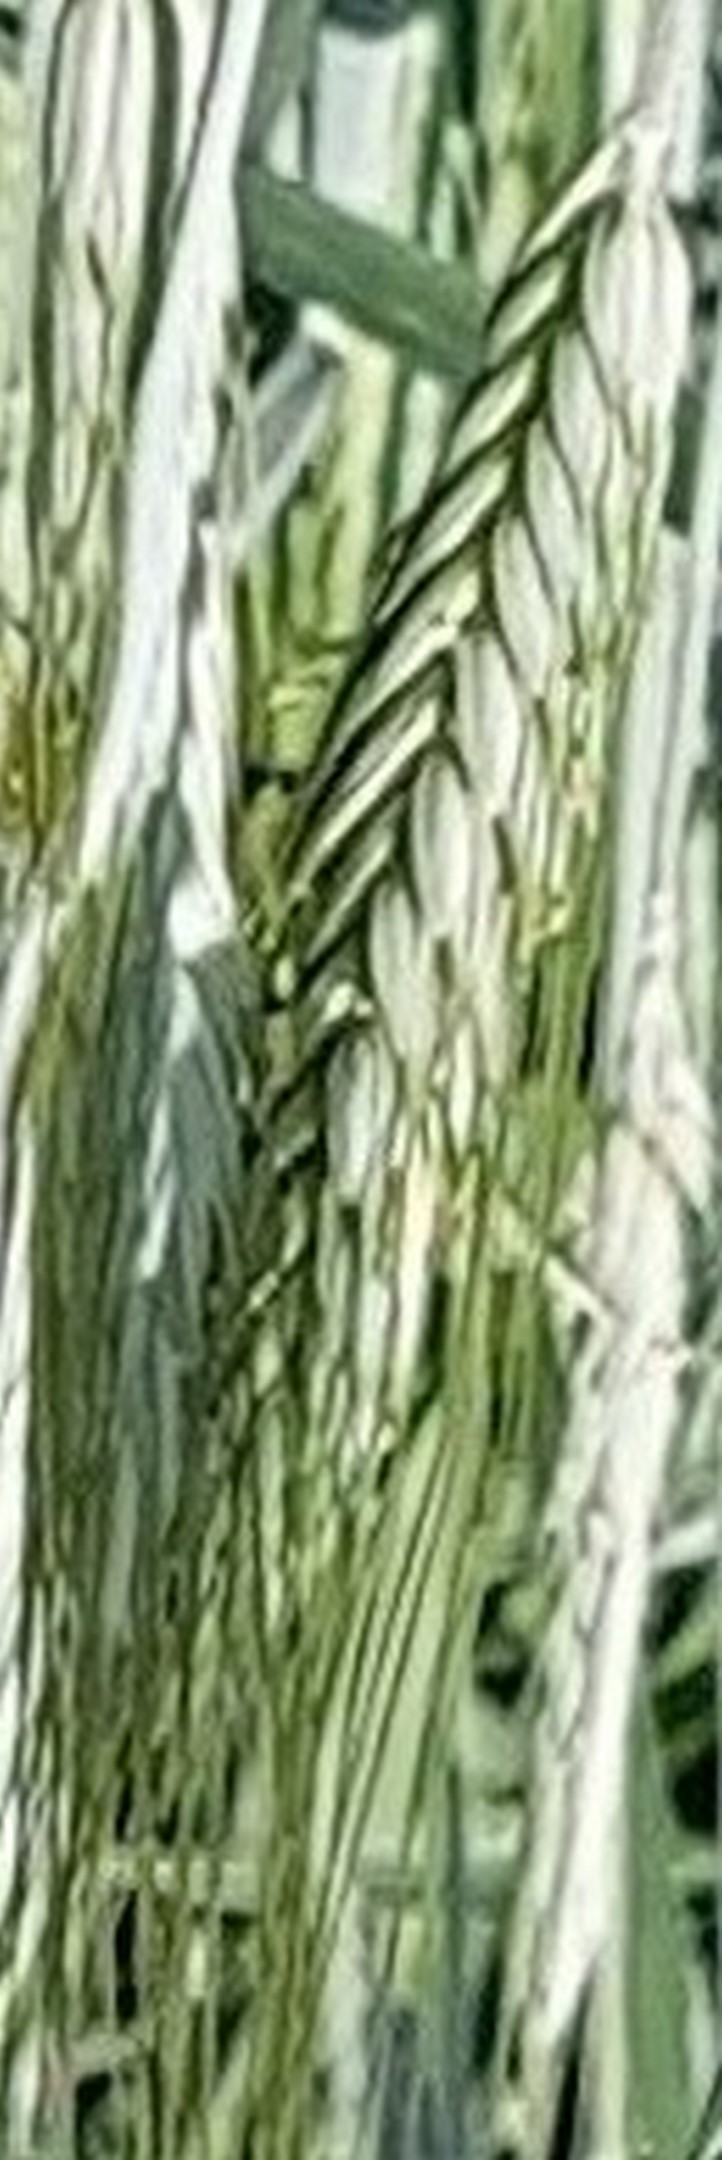Healthy Wheat: (271, 175, 704, 1431)
